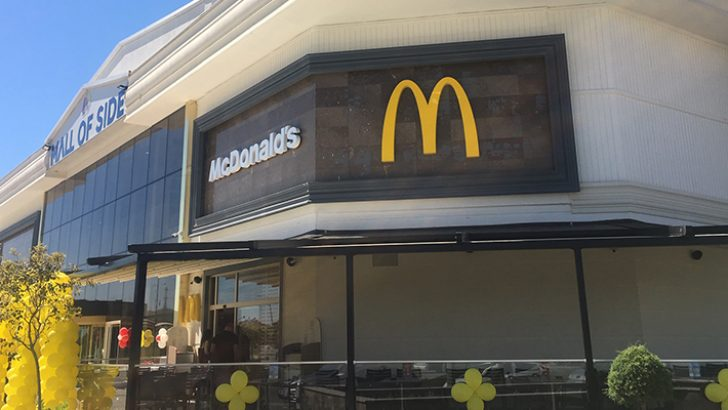mcdonalds: (365, 71, 494, 167)
